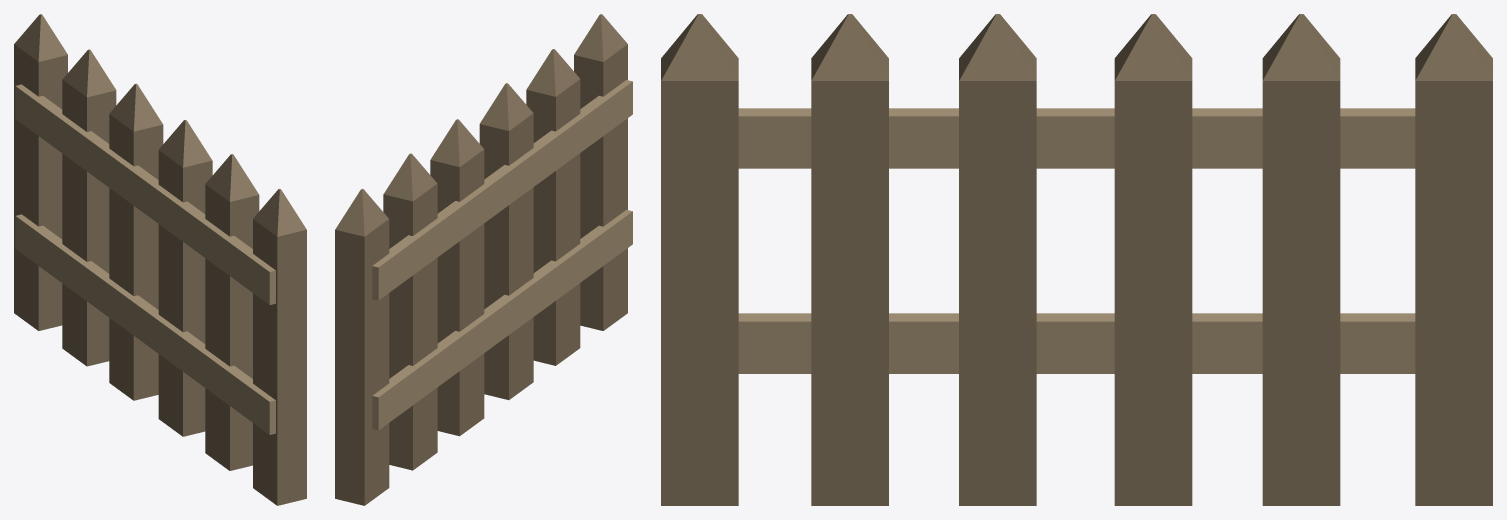
Rendered from Fence1.fbx.
3 renders of one model, left to right at view 1: azimuth 30°, elevation 25°; view 2: azimuth 150°, elevation 25°; view 3: azimuth 270°, elevation 25°, orthographic. The views are drawn at different scales.
Parts seen in each view (by area): view 1: polySurface25; view 2: polySurface25; view 3: polySurface25.
Part boxes in pixels (box(x1,y1,x2,y2)): polySurface25: box(14, 14, 306, 505); polySurface25: box(335, 14, 632, 505); polySurface25: box(661, 14, 1492, 505).
Size of the model in its own units: 3.17 by 25.72 by 40.39.
